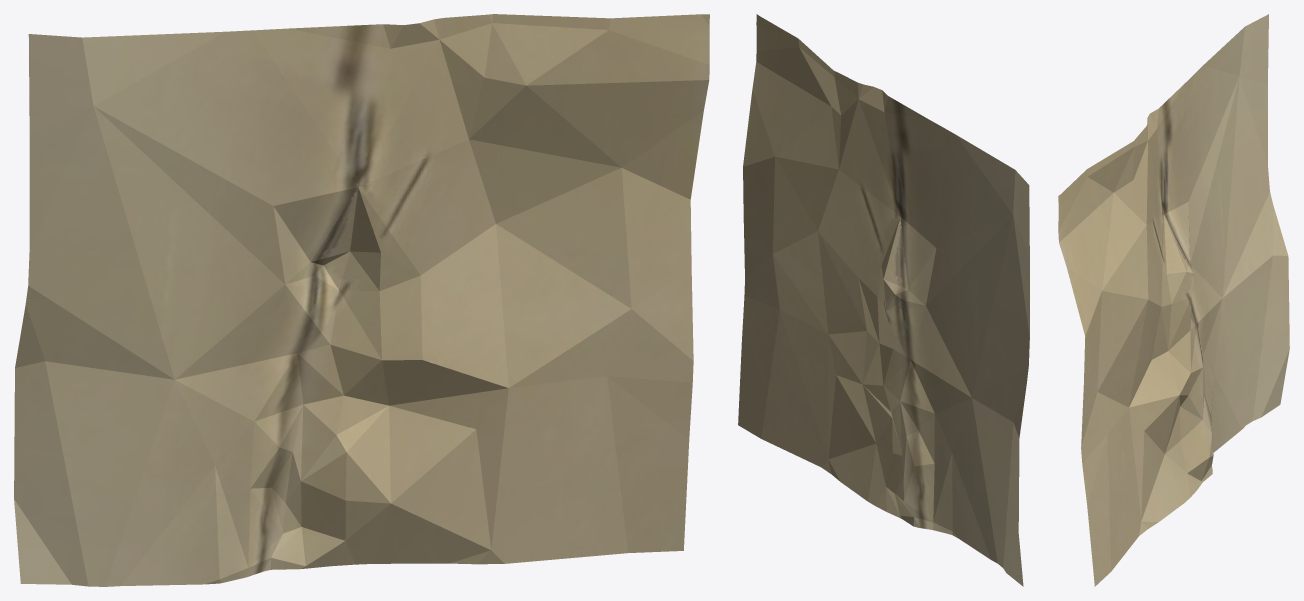
3 views of the same model, side by side, from view 1: azimuth 30°, elevation 25°; view 2: azimuth 150°, elevation 25°; view 3: azimuth 270°, elevation 25° (orthographic). The views are drawn at different scales.
Size of the model in its own units: 0.8373 by 0.8374 by 0.45.
Materials: 3 (3 with a texture image).
